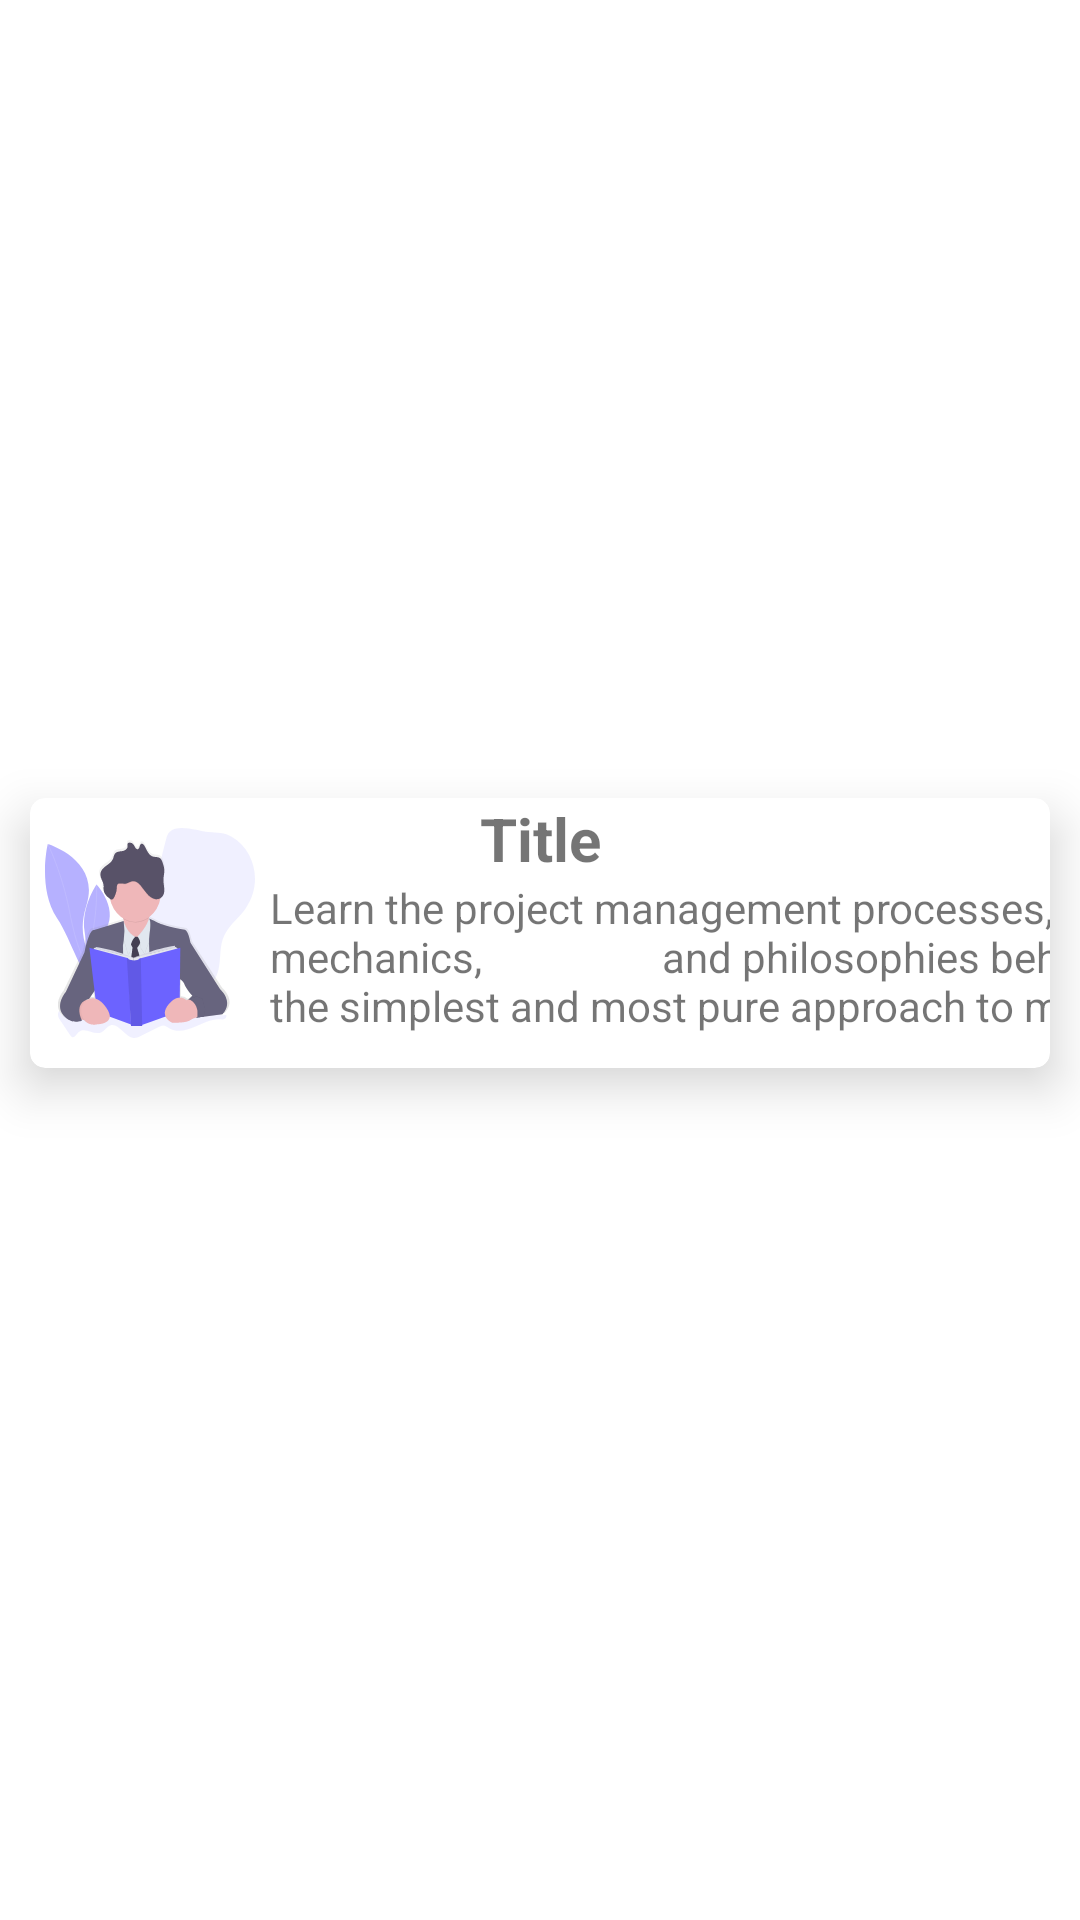

Screen size 1080px×1920px. Icon name, then its box in pixels as box=[x1, y1, x2, y2]:
igbobook: box=[45, 842, 229, 1026]
